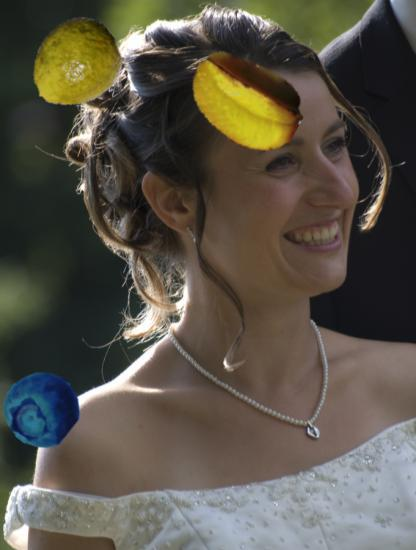Carambula: (185, 42, 304, 161)
Guava: (27, 17, 123, 113)
Huckleberry: (4, 372, 79, 447)
